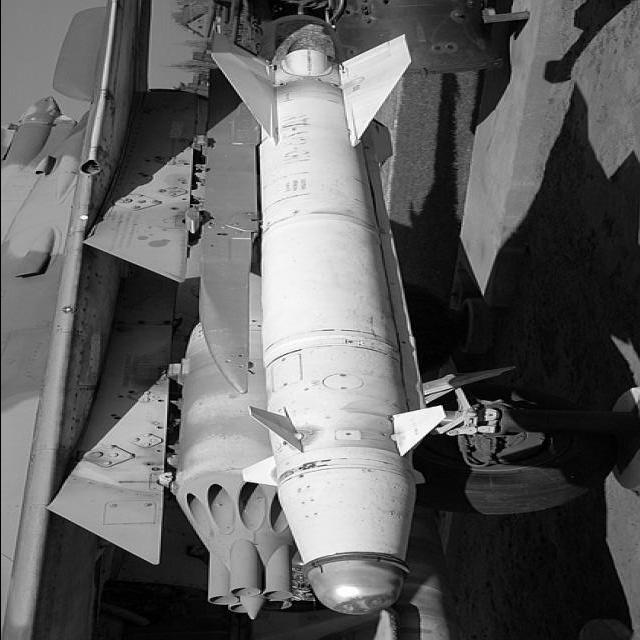missile: (213, 21, 442, 629)
